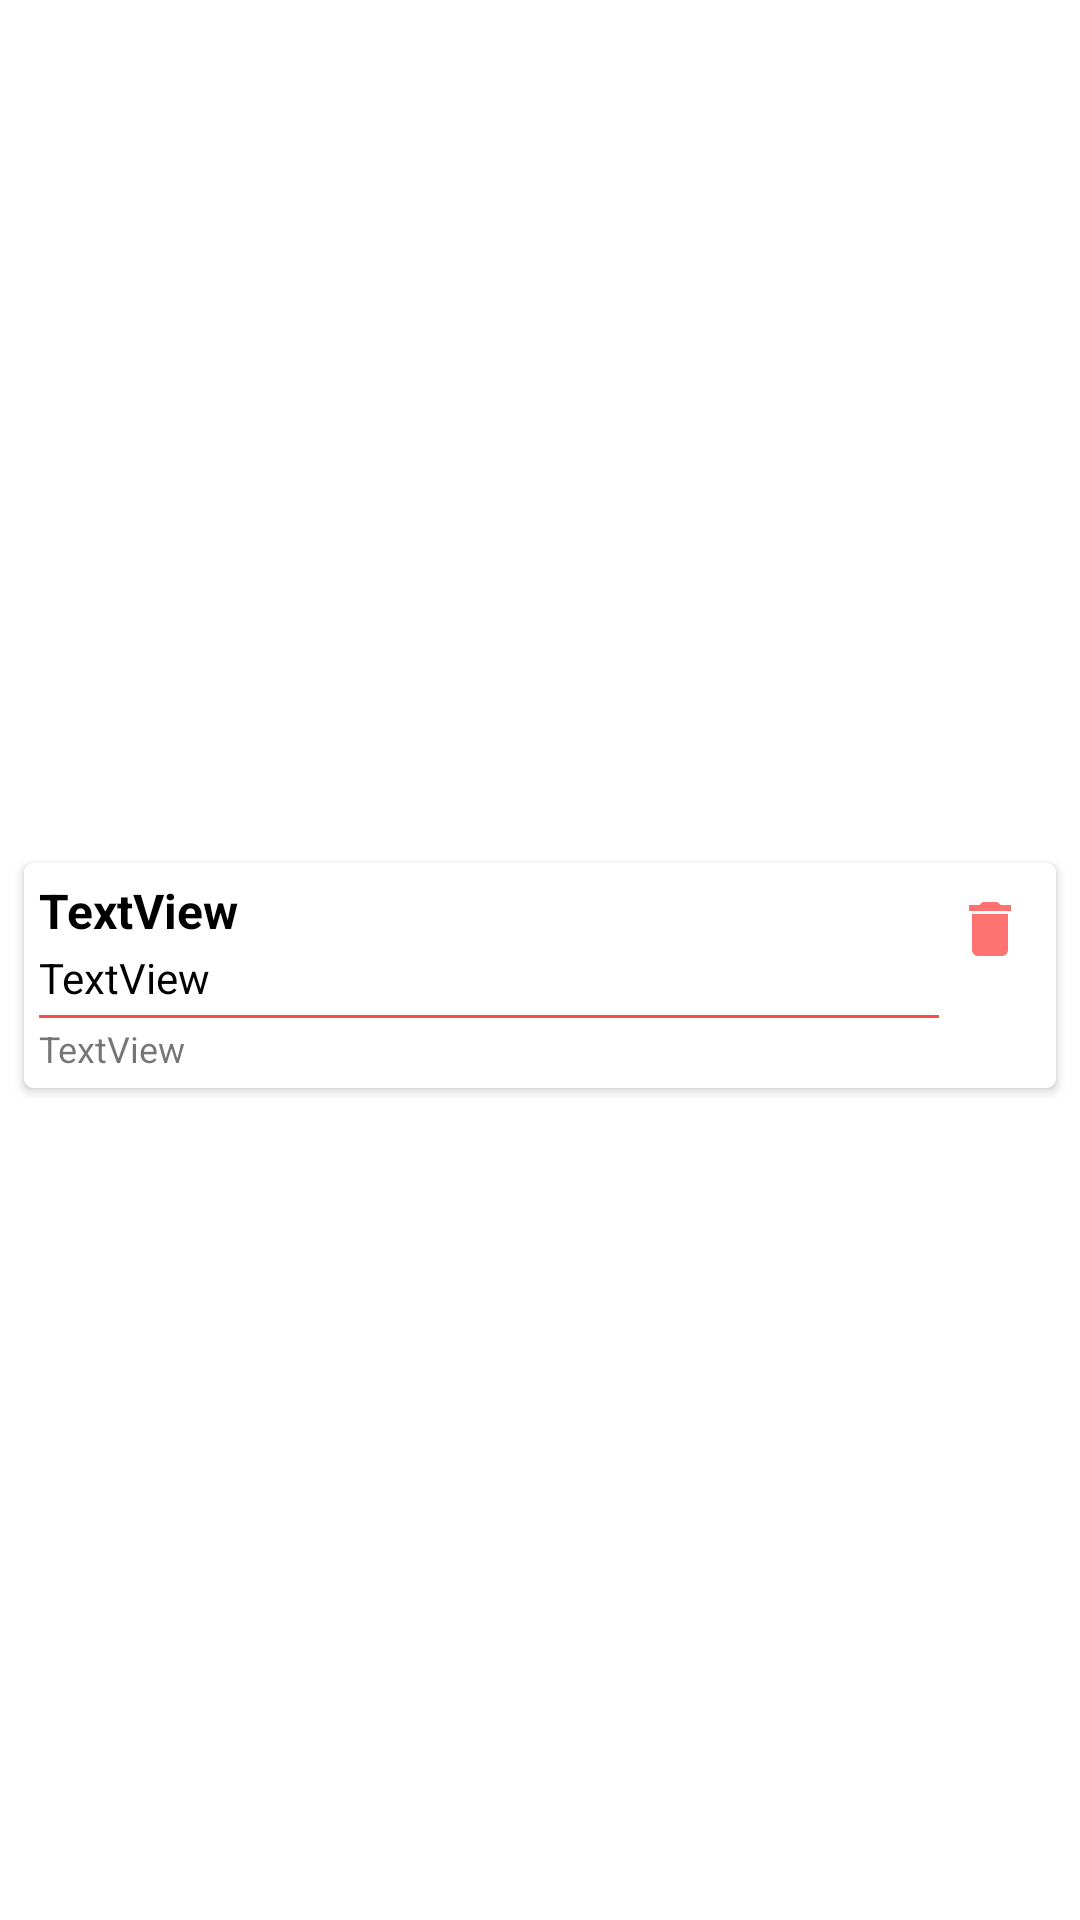

Point at icon controls on the screen. Image size 1080x1920, points as (x,y).
delete: (990,929)
